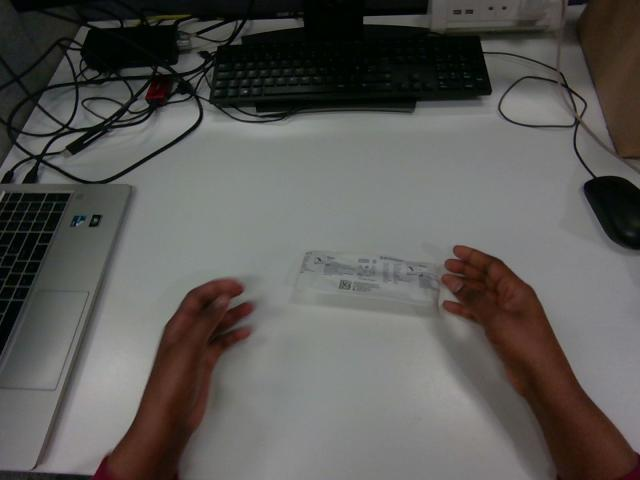syringe: (296, 251, 439, 306)
